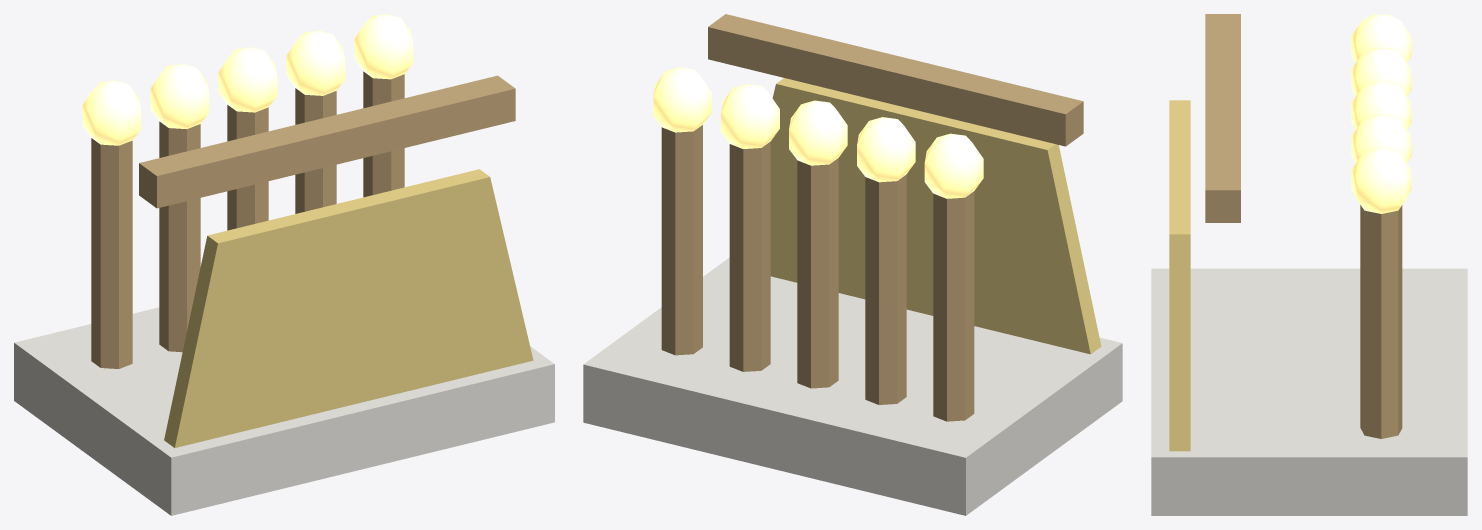
The model's file is mythic-underworld-and-olympus-fates-tablet-05511c65__21437.glb.
The picture shows the model from 3 angles, left to right: view 1: azimuth 30°, elevation 25°; view 2: azimuth 150°, elevation 25°; view 3: azimuth 270°, elevation 25°; orthographic projection.
Parts seen in each view (by area): view 1: fates-tablet; view 2: fates-tablet; view 3: fates-tablet.
Boxes of the visible parts, x1=… form: fates-tablet: x1=14, y1=14, x2=554, y2=515; fates-tablet: x1=583, y1=14, x2=1122, y2=515; fates-tablet: x1=1151, y1=14, x2=1467, y2=515.
Bounding box in the file's own units: 0.62 × 0.52 × 0.44.
